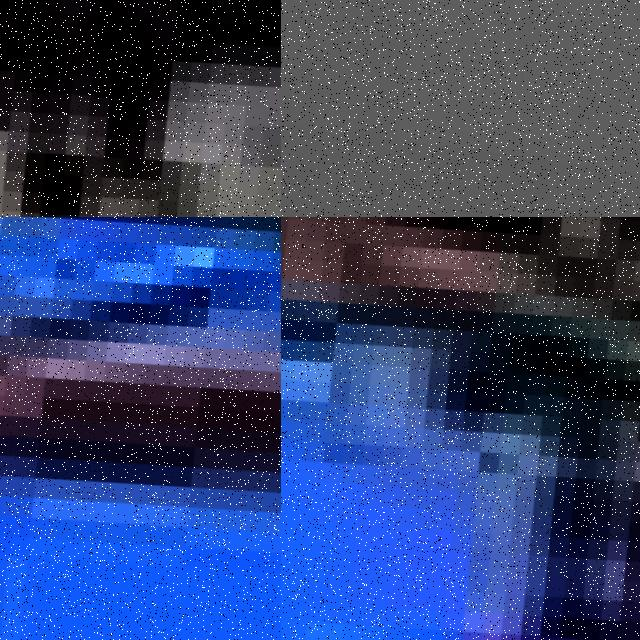drone: (281, 217, 640, 640), (0, 217, 281, 640), (0, 0, 281, 217)
